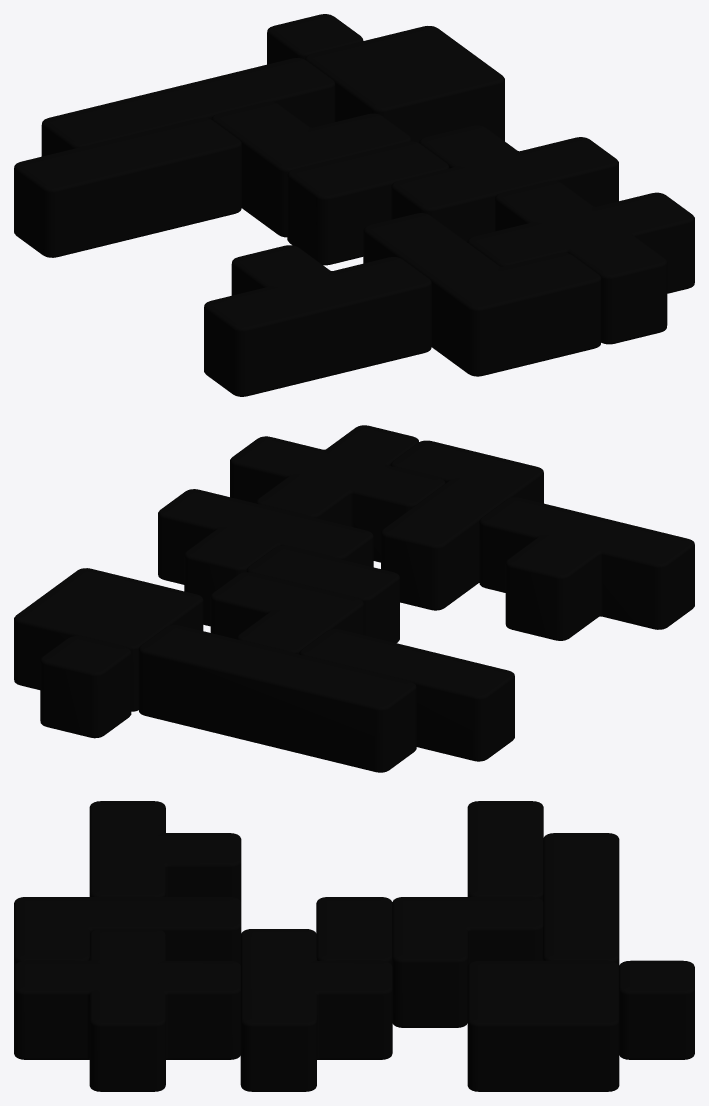
File: Block2.fbx
3 renders of one model, top to bottom at view 1: azimuth 30°, elevation 25°; view 2: azimuth 150°, elevation 25°; view 3: azimuth 270°, elevation 25°, orthographic. The views are drawn at different scales.
Parts seen in each view (by area): view 1: Block9, Block2, Block6, Block5, Block8, Block4, Block3, Block1, Block7, Block0; view 2: Block3, Block9, Block6, Block5, Block4, Block2, Block8, Block7, Block0, Block1; view 3: Block5, Block8, Block4, Block7, Block9, Block6, Block3, Block0, Block2, Block1.
Part boxes in pixels (box(x1,y1,x2,y2)): Block9: box(204, 245, 431, 396); Block2: box(14, 118, 241, 257); Block6: box(363, 213, 601, 376); Block5: box(467, 181, 694, 344); Block8: box(305, 26, 504, 142); Block4: box(391, 125, 618, 241); Block3: box(41, 58, 335, 156); Block1: box(287, 141, 449, 265); Block7: box(211, 101, 411, 237); Block0: box(267, 14, 363, 64); Block3: box(138, 625, 416, 772); Block9: box(479, 497, 694, 640); Block6: box(381, 440, 543, 610); Block5: box(230, 425, 445, 562); Block4: box(158, 489, 373, 626); Block2: box(299, 629, 514, 761); Block8: box(14, 568, 203, 711); Block7: box(210, 572, 363, 654); Block0: box(40, 636, 131, 738); Block1: box(246, 546, 399, 642); Block5: box(14, 929, 240, 1091); Block8: box(467, 960, 619, 1091); Block4: box(240, 929, 392, 1091); Block7: box(392, 897, 543, 1027); Block9: box(89, 801, 241, 901); Block6: box(14, 897, 241, 966); Block3: box(543, 833, 619, 965); Block0: box(619, 960, 694, 1059); Block2: box(467, 801, 543, 900); Block1: box(316, 897, 392, 965).
Bounding box in the file's own units: 7.01 × 1.01 × 9.01.
Materials: 2 (2 with a texture image).
